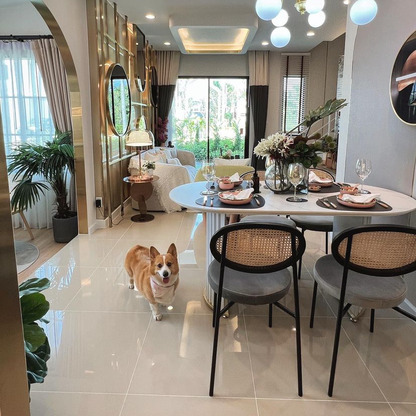Corgi: (122, 226, 194, 326)
